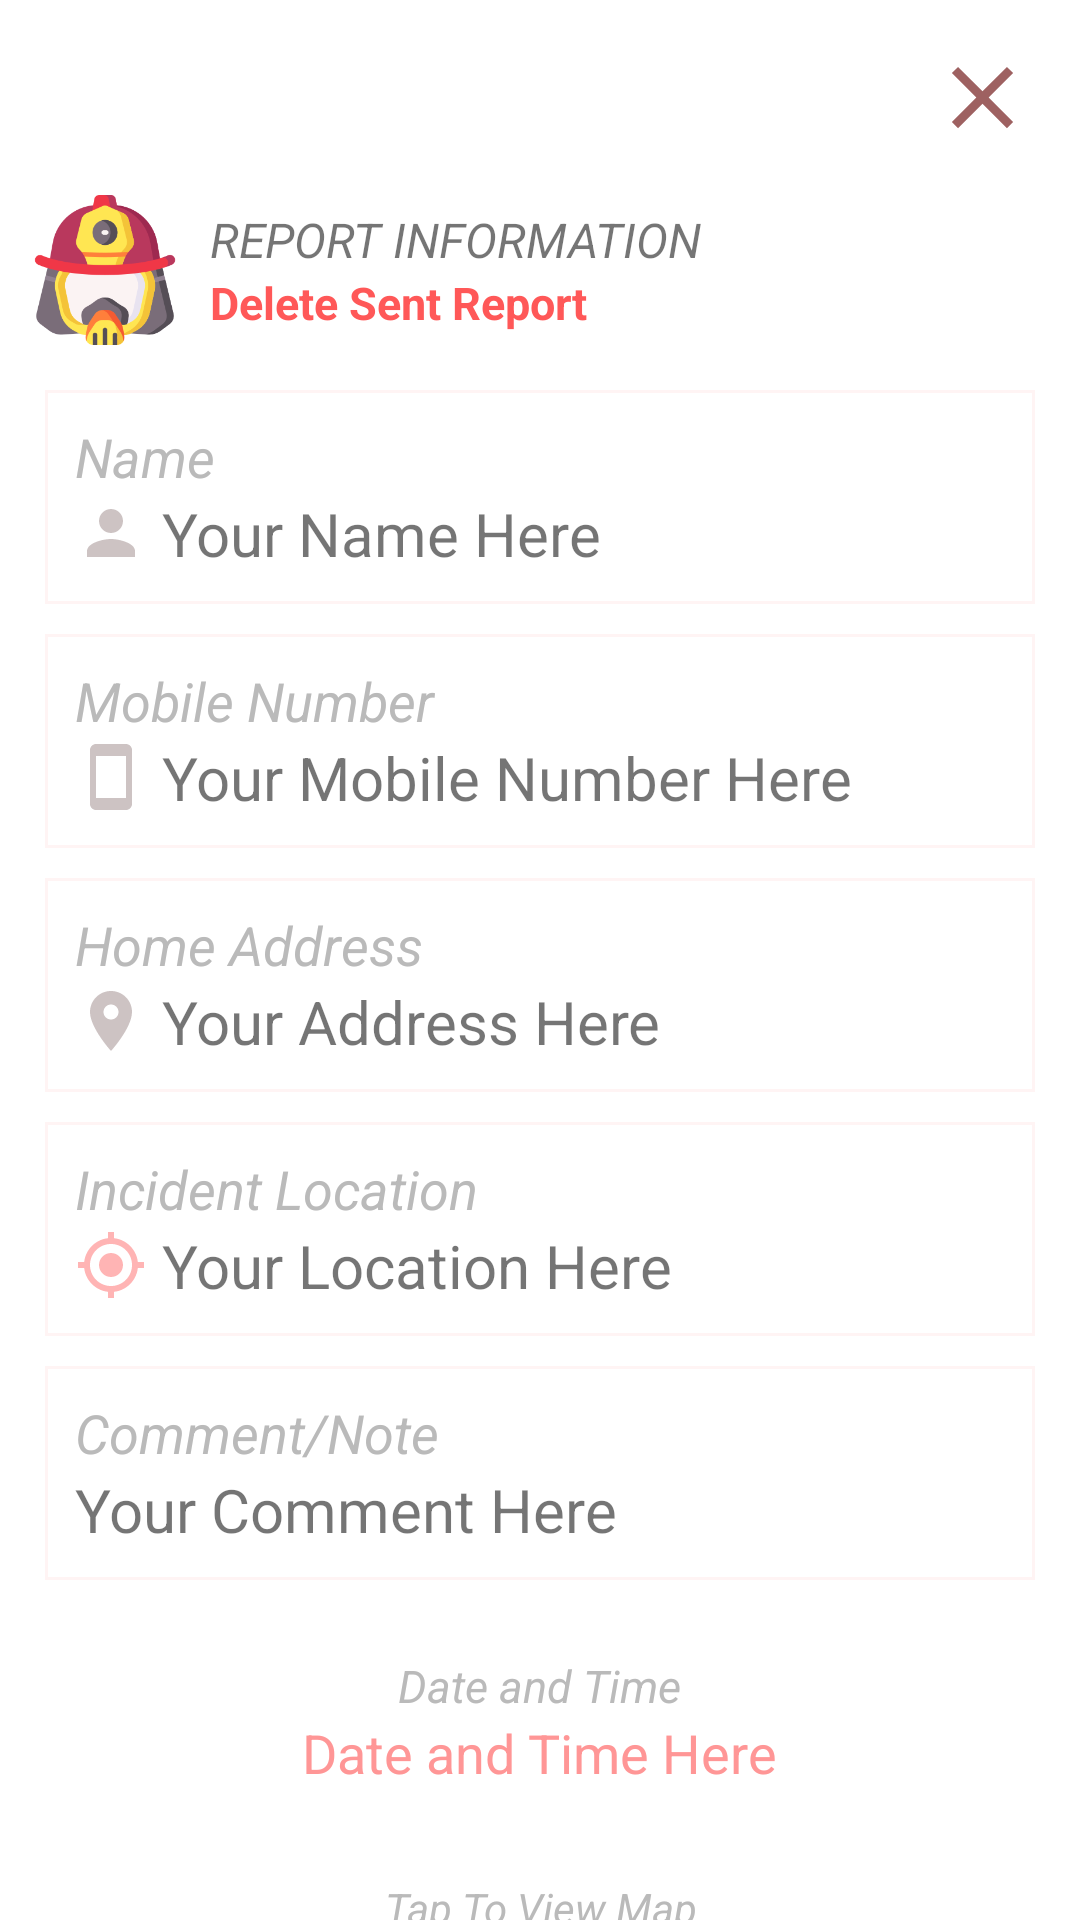

Where icons sit on this 1080 x 1920 app screen, as (x1, y1, x2, y2):
close: (952, 67, 1013, 128)
fighter: (35, 195, 175, 345)
